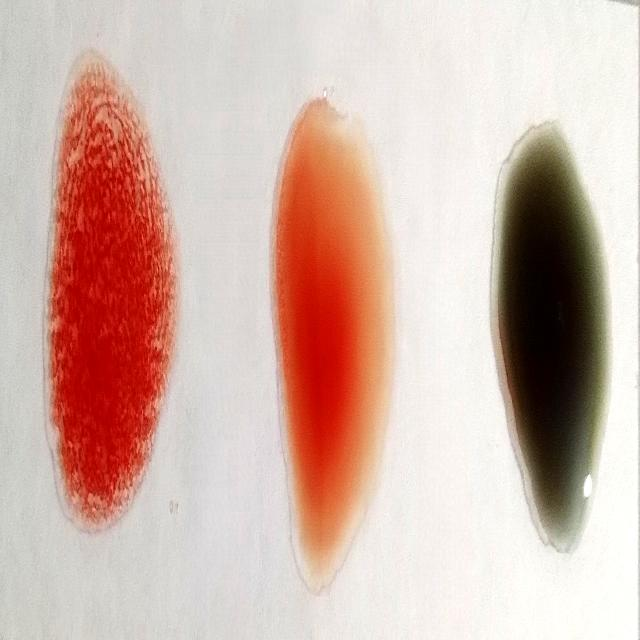D: (43, 70, 174, 544)
